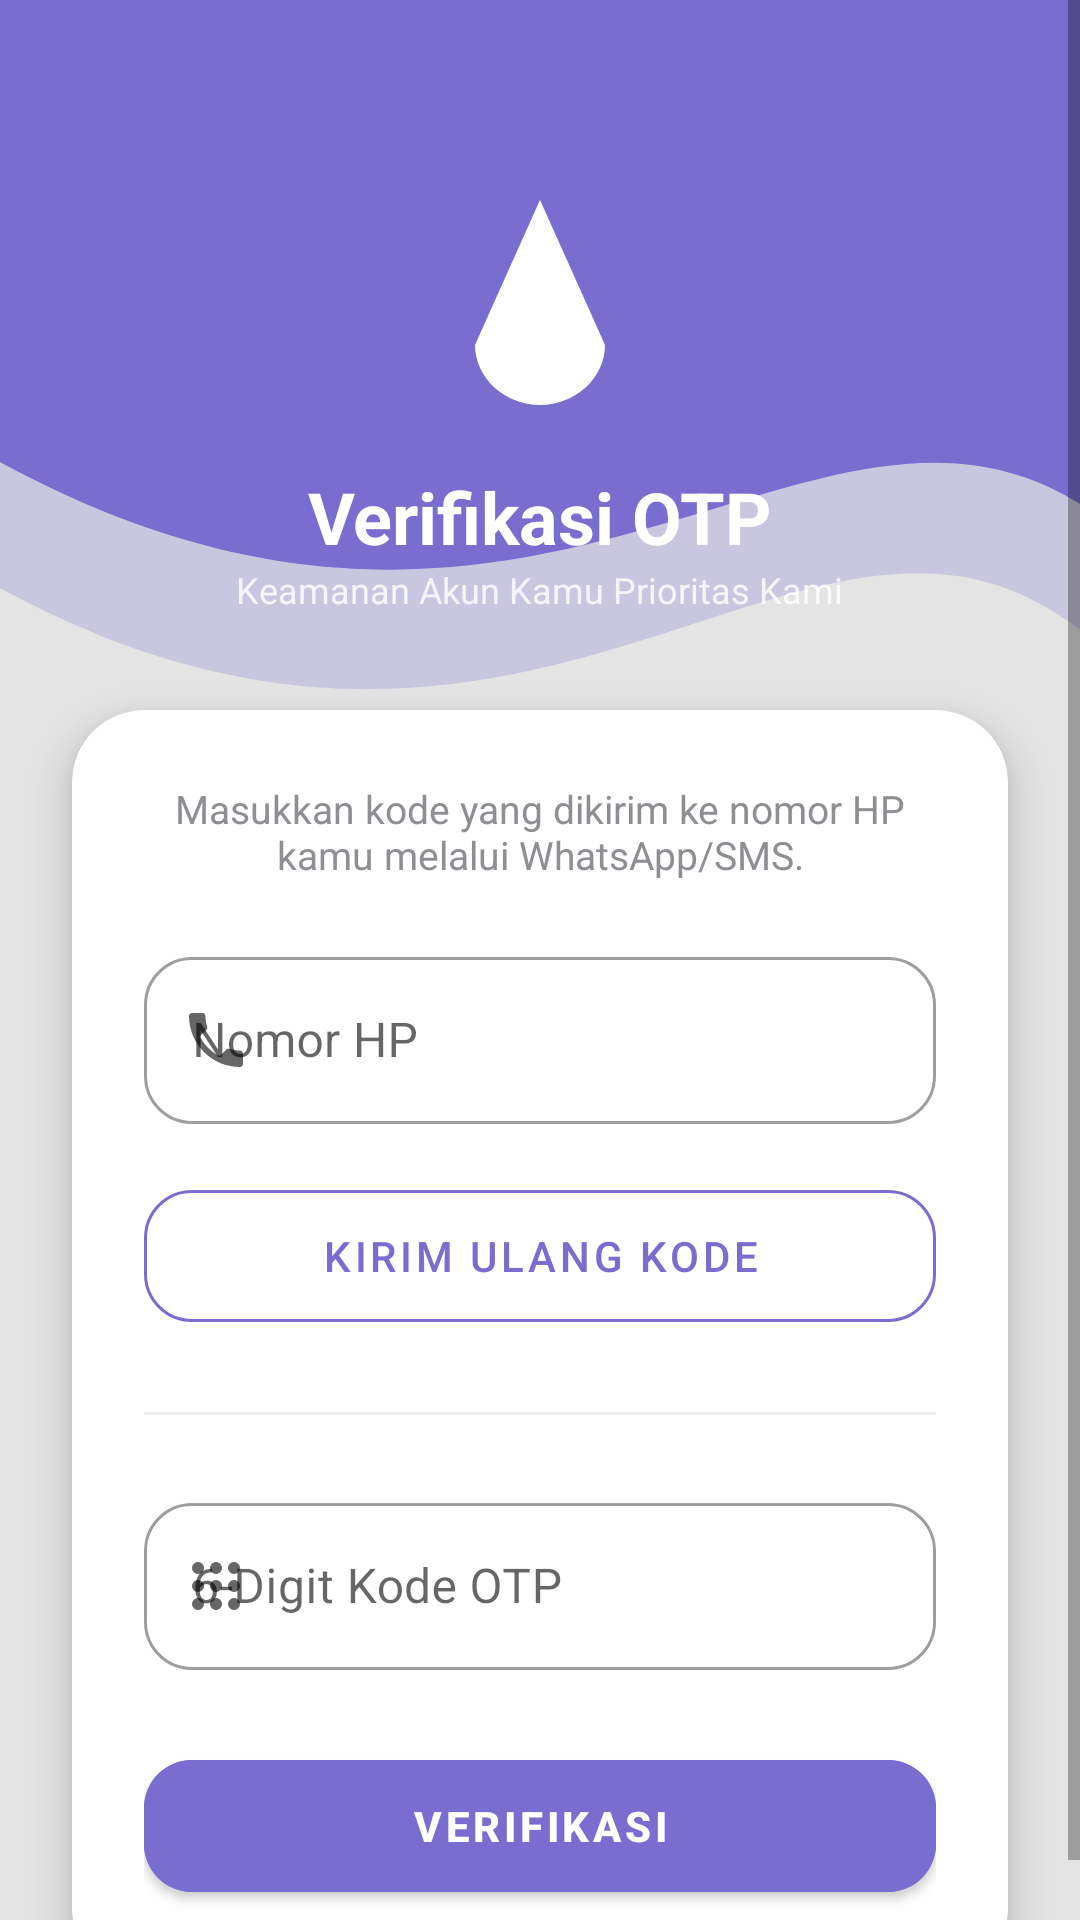

Where to tap for icons on this 1080w x 1920h app screen, as point (x, y):
water drop: point (540, 302)
